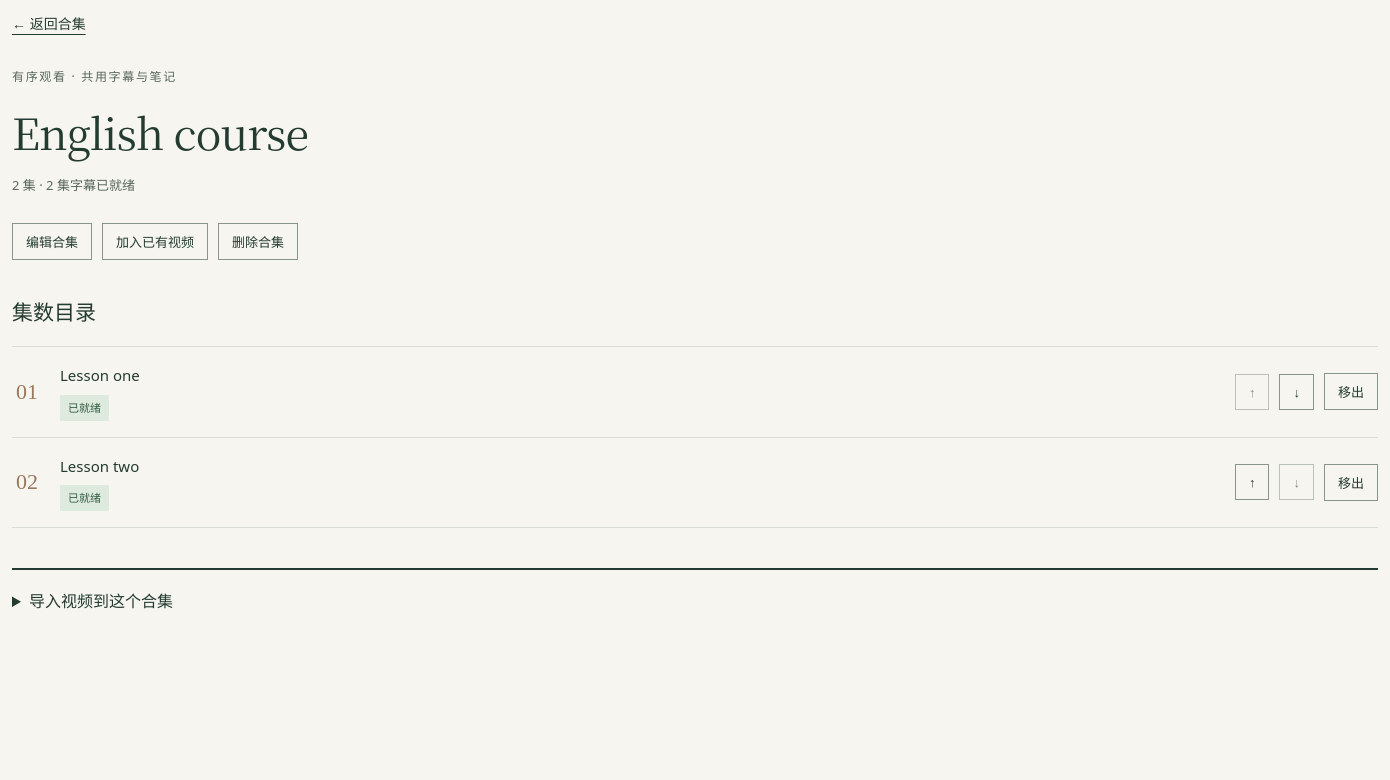
refreshes a collection version conflict without silently resubmitting stale order
Expected: the number of list items is 2, [12,347,1378,438]; [12,438,1378,528]
Click the button named "下移第1集": (1297, 392) [1280,374,1314,410]
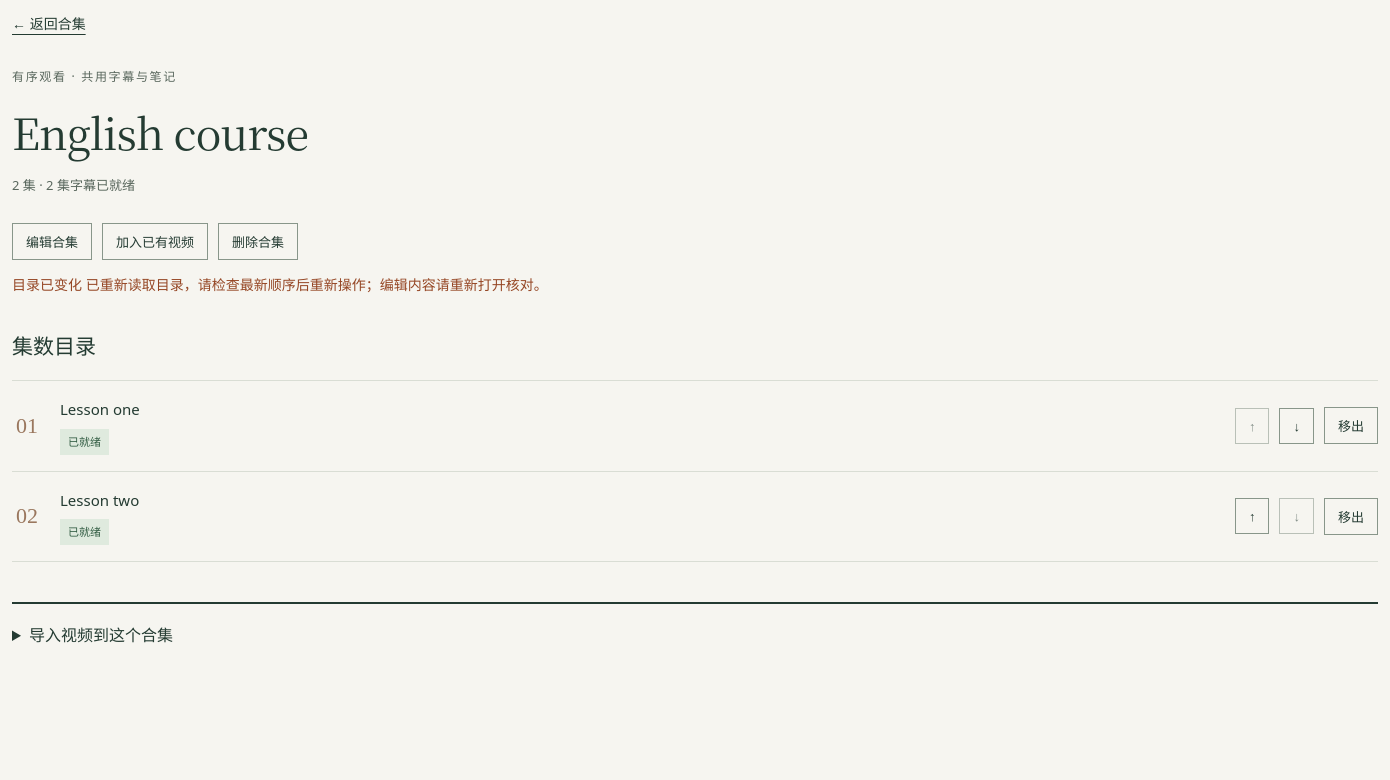
Expected: the text "已重新读取目录" is shown, [82,275,548,294]
